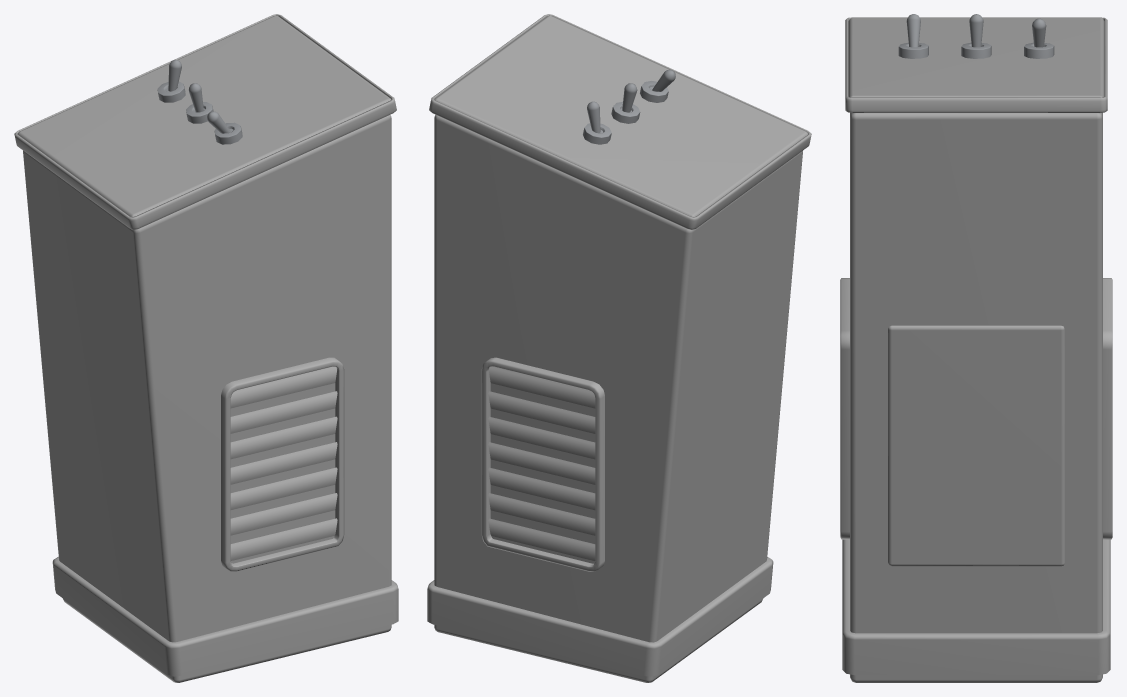
The model's file is Panel.fbx.
3 renders of one model, left to right at view 1: azimuth 30°, elevation 25°; view 2: azimuth 150°, elevation 25°; view 3: azimuth 270°, elevation 25°, orthographic. The views are drawn at different scales.
Visible parts, largest first — view 1: PanelBody, Steel, Vent, Back, Tumblers; view 2: PanelBody, Steel, Vent, Back, Tumblers; view 3: PanelBody, Cap, Steel, Vent, Tumblers.
Boxes of the visible parts, x1=… form: PanelBody: x1=17, y1=15, x2=391, y2=682; Steel: x1=14, y1=14, x2=398, y2=676; Vent: x1=221, y1=357, x2=344, y2=571; Back: x1=230, y1=383, x2=335, y2=563; Tumblers: x1=157, y1=60, x2=242, y2=144; PanelBody: x1=434, y1=15, x2=808, y2=682; Steel: x1=427, y1=14, x2=811, y2=676; Vent: x1=481, y1=357, x2=604, y2=571; Back: x1=490, y1=383, x2=595, y2=563; Tumblers: x1=583, y1=69, x2=675, y2=144; PanelBody: x1=848, y1=17, x2=1104, y2=682; Cap: x1=888, y1=325, x2=1064, y2=566; Steel: x1=842, y1=17, x2=1110, y2=675; Vent: x1=840, y1=278, x2=1112, y2=539; Tumblers: x1=898, y1=14, x2=1054, y2=58.
Size of the model in its own units: 55.07 by 105 by 43.71.
